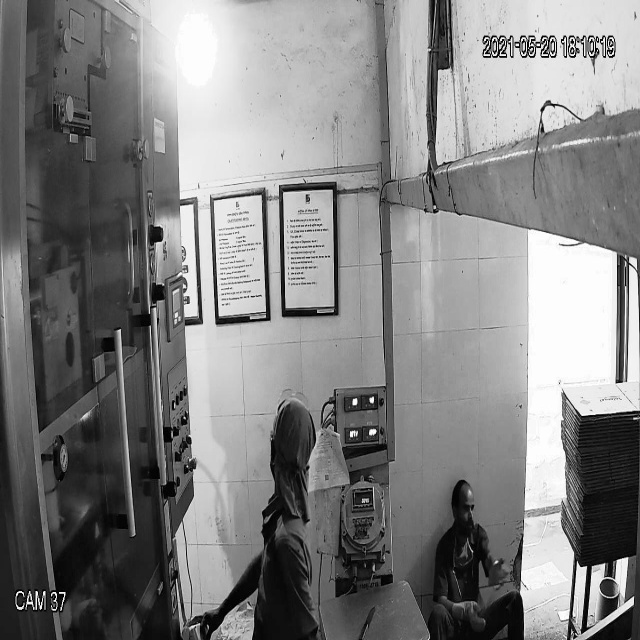Sin_gafas: (449, 498, 478, 519)
